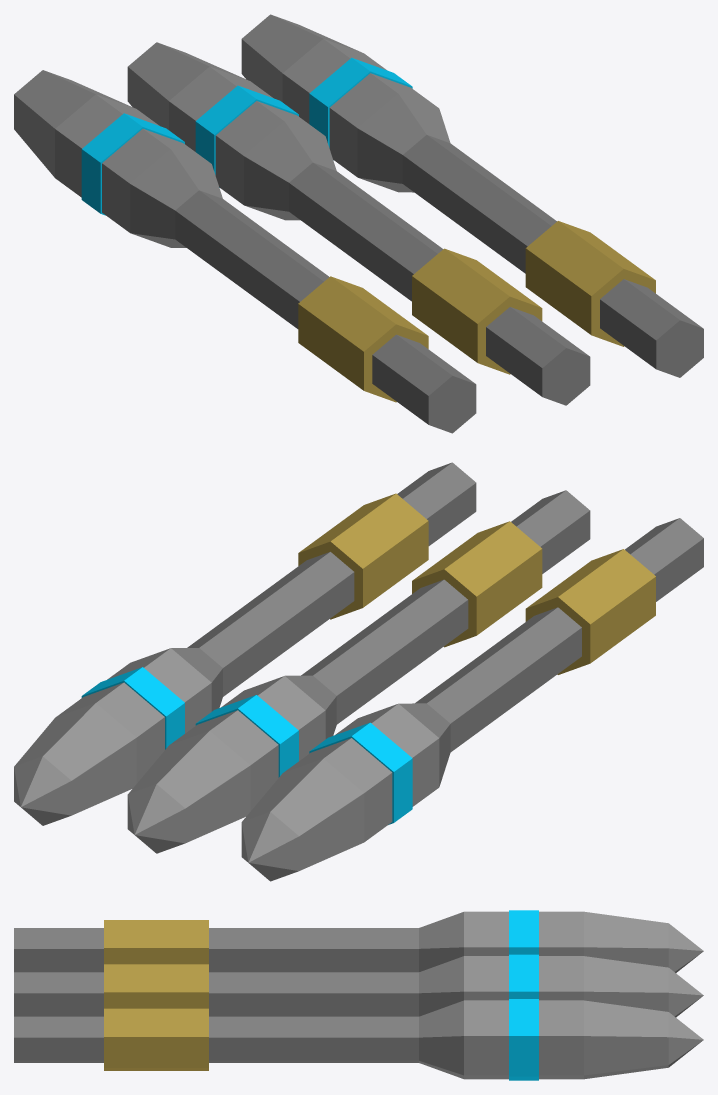
Rendered from ce_ammo2_spg9_emp_b.obj.
3 renders of one model, top to bottom at view 1: azimuth 30°, elevation 25°; view 2: azimuth 150°, elevation 25°; view 3: azimuth 270°, elevation 25°, orthographic. The views are drawn at different scales.
Visible parts, largest first — view 1: ce_ammo2_spg9_emp_b_20, ce_ammo2_spg9_emp_b_2, ce_ammo2_spg9_emp_b_11, ce_ammo2_spg9_emp_b_1, ce_ammo2_spg9_emp_b_19, ce_ammo2_spg9_emp_b_10, ce_ammo2_spg9_emp_b_0, ce_ammo2_spg9_emp_b_9, ce_ammo2_spg9_emp_b_18, ce_ammo2_spg9_emp_b_21, ce_ammo2_spg9_emp_b_3, ce_ammo2_spg9_emp_b_12 (+12 smaller); view 2: ce_ammo2_spg9_emp_b_11, ce_ammo2_spg9_emp_b_2, ce_ammo2_spg9_emp_b_20, ce_ammo2_spg9_emp_b_19, ce_ammo2_spg9_emp_b_10, ce_ammo2_spg9_emp_b_1, ce_ammo2_spg9_emp_b_7, ce_ammo2_spg9_emp_b_16, ce_ammo2_spg9_emp_b_25, ce_ammo2_spg9_emp_b_6, ce_ammo2_spg9_emp_b_18, ce_ammo2_spg9_emp_b_9 (+15 smaller); view 3: ce_ammo2_spg9_emp_b_20, ce_ammo2_spg9_emp_b_2, ce_ammo2_spg9_emp_b_11, ce_ammo2_spg9_emp_b_19, ce_ammo2_spg9_emp_b_25, ce_ammo2_spg9_emp_b_1, ce_ammo2_spg9_emp_b_10, ce_ammo2_spg9_emp_b_18, ce_ammo2_spg9_emp_b_0, ce_ammo2_spg9_emp_b_9, ce_ammo2_spg9_emp_b_7, ce_ammo2_spg9_emp_b_16 (+15 smaller).
Boxes of the visible parts, x1,y1,x2,y2 form: ce_ammo2_spg9_emp_b_20: (402, 135, 556, 273); ce_ammo2_spg9_emp_b_2: (175, 190, 328, 328); ce_ammo2_spg9_emp_b_11: (289, 162, 442, 301); ce_ammo2_spg9_emp_b_1: (298, 276, 428, 402); ce_ammo2_spg9_emp_b_19: (525, 221, 655, 346); ce_ammo2_spg9_emp_b_10: (412, 248, 542, 374); ce_ammo2_spg9_emp_b_0: (372, 334, 476, 433); ce_ammo2_spg9_emp_b_9: (486, 307, 590, 405); ce_ammo2_spg9_emp_b_18: (600, 279, 703, 377); ce_ammo2_spg9_emp_b_21: (357, 94, 450, 192); ce_ammo2_spg9_emp_b_3: (130, 149, 222, 247); ce_ammo2_spg9_emp_b_12: (244, 121, 336, 220); ce_ammo2_spg9_emp_b_11: (301, 579, 468, 724); ce_ammo2_spg9_emp_b_2: (415, 607, 581, 751); ce_ammo2_spg9_emp_b_20: (187, 552, 354, 696); ce_ammo2_spg9_emp_b_19: (298, 493, 428, 619); ce_ammo2_spg9_emp_b_10: (412, 521, 542, 647); ce_ammo2_spg9_emp_b_1: (525, 549, 655, 674); ce_ammo2_spg9_emp_b_7: (242, 758, 364, 870); ce_ammo2_spg9_emp_b_16: (128, 731, 250, 843); ce_ammo2_spg9_emp_b_25: (14, 703, 136, 815); ce_ammo2_spg9_emp_b_6: (283, 738, 392, 841); ce_ammo2_spg9_emp_b_18: (397, 462, 476, 545); ce_ammo2_spg9_emp_b_9: (511, 490, 590, 573); ce_ammo2_spg9_emp_b_20: (209, 1016, 418, 1062); ce_ammo2_spg9_emp_b_2: (209, 928, 418, 972); ce_ammo2_spg9_emp_b_11: (209, 972, 418, 1016); ce_ammo2_spg9_emp_b_19: (104, 1008, 208, 1070); ce_ammo2_spg9_emp_b_25: (584, 1000, 668, 1079); ce_ammo2_spg9_emp_b_1: (104, 920, 208, 964); ce_ammo2_spg9_emp_b_10: (104, 964, 208, 1008); ce_ammo2_spg9_emp_b_18: (14, 1016, 103, 1062); ce_ammo2_spg9_emp_b_0: (14, 928, 103, 972); ce_ammo2_spg9_emp_b_9: (14, 972, 103, 1016); ce_ammo2_spg9_emp_b_7: (584, 911, 668, 967); ce_ammo2_spg9_emp_b_16: (584, 956, 668, 1011).
Size of the model in its own units: 0.384 by 0.12 by 0.92.
